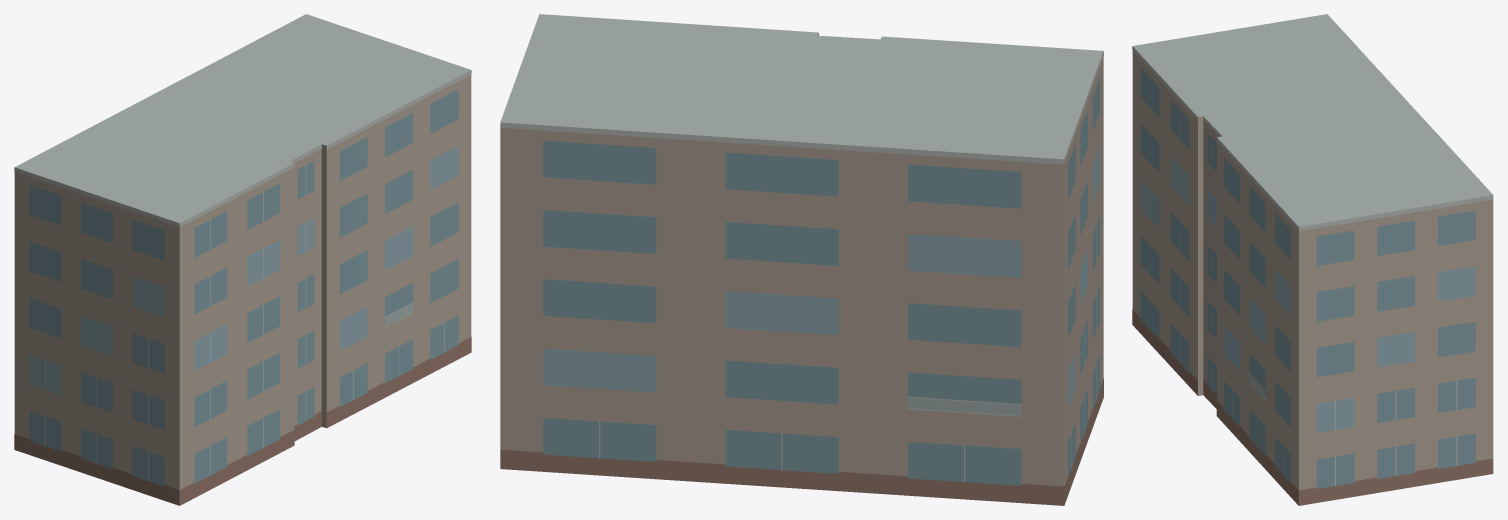
Rendered from survey-upis-32729154.glb.
The picture shows the model from 3 angles, left to right: view 1: azimuth 30°, elevation 25°; view 2: azimuth 150°, elevation 25°; view 3: azimuth 270°, elevation 25°; orthographic projection. The views are drawn at different scales.
Visible parts, largest first — view 1: survey-upis-32729154.tmp; view 2: survey-upis-32729154.tmp; view 3: survey-upis-32729154.tmp.
Part boxes in pixels (x1,y1,x2,y2): survey-upis-32729154.tmp: (14, 14, 471, 505); survey-upis-32729154.tmp: (500, 14, 1103, 505); survey-upis-32729154.tmp: (1132, 14, 1493, 505).
Size of the model in its own units: 26.07 by 15.9 by 18.66.
